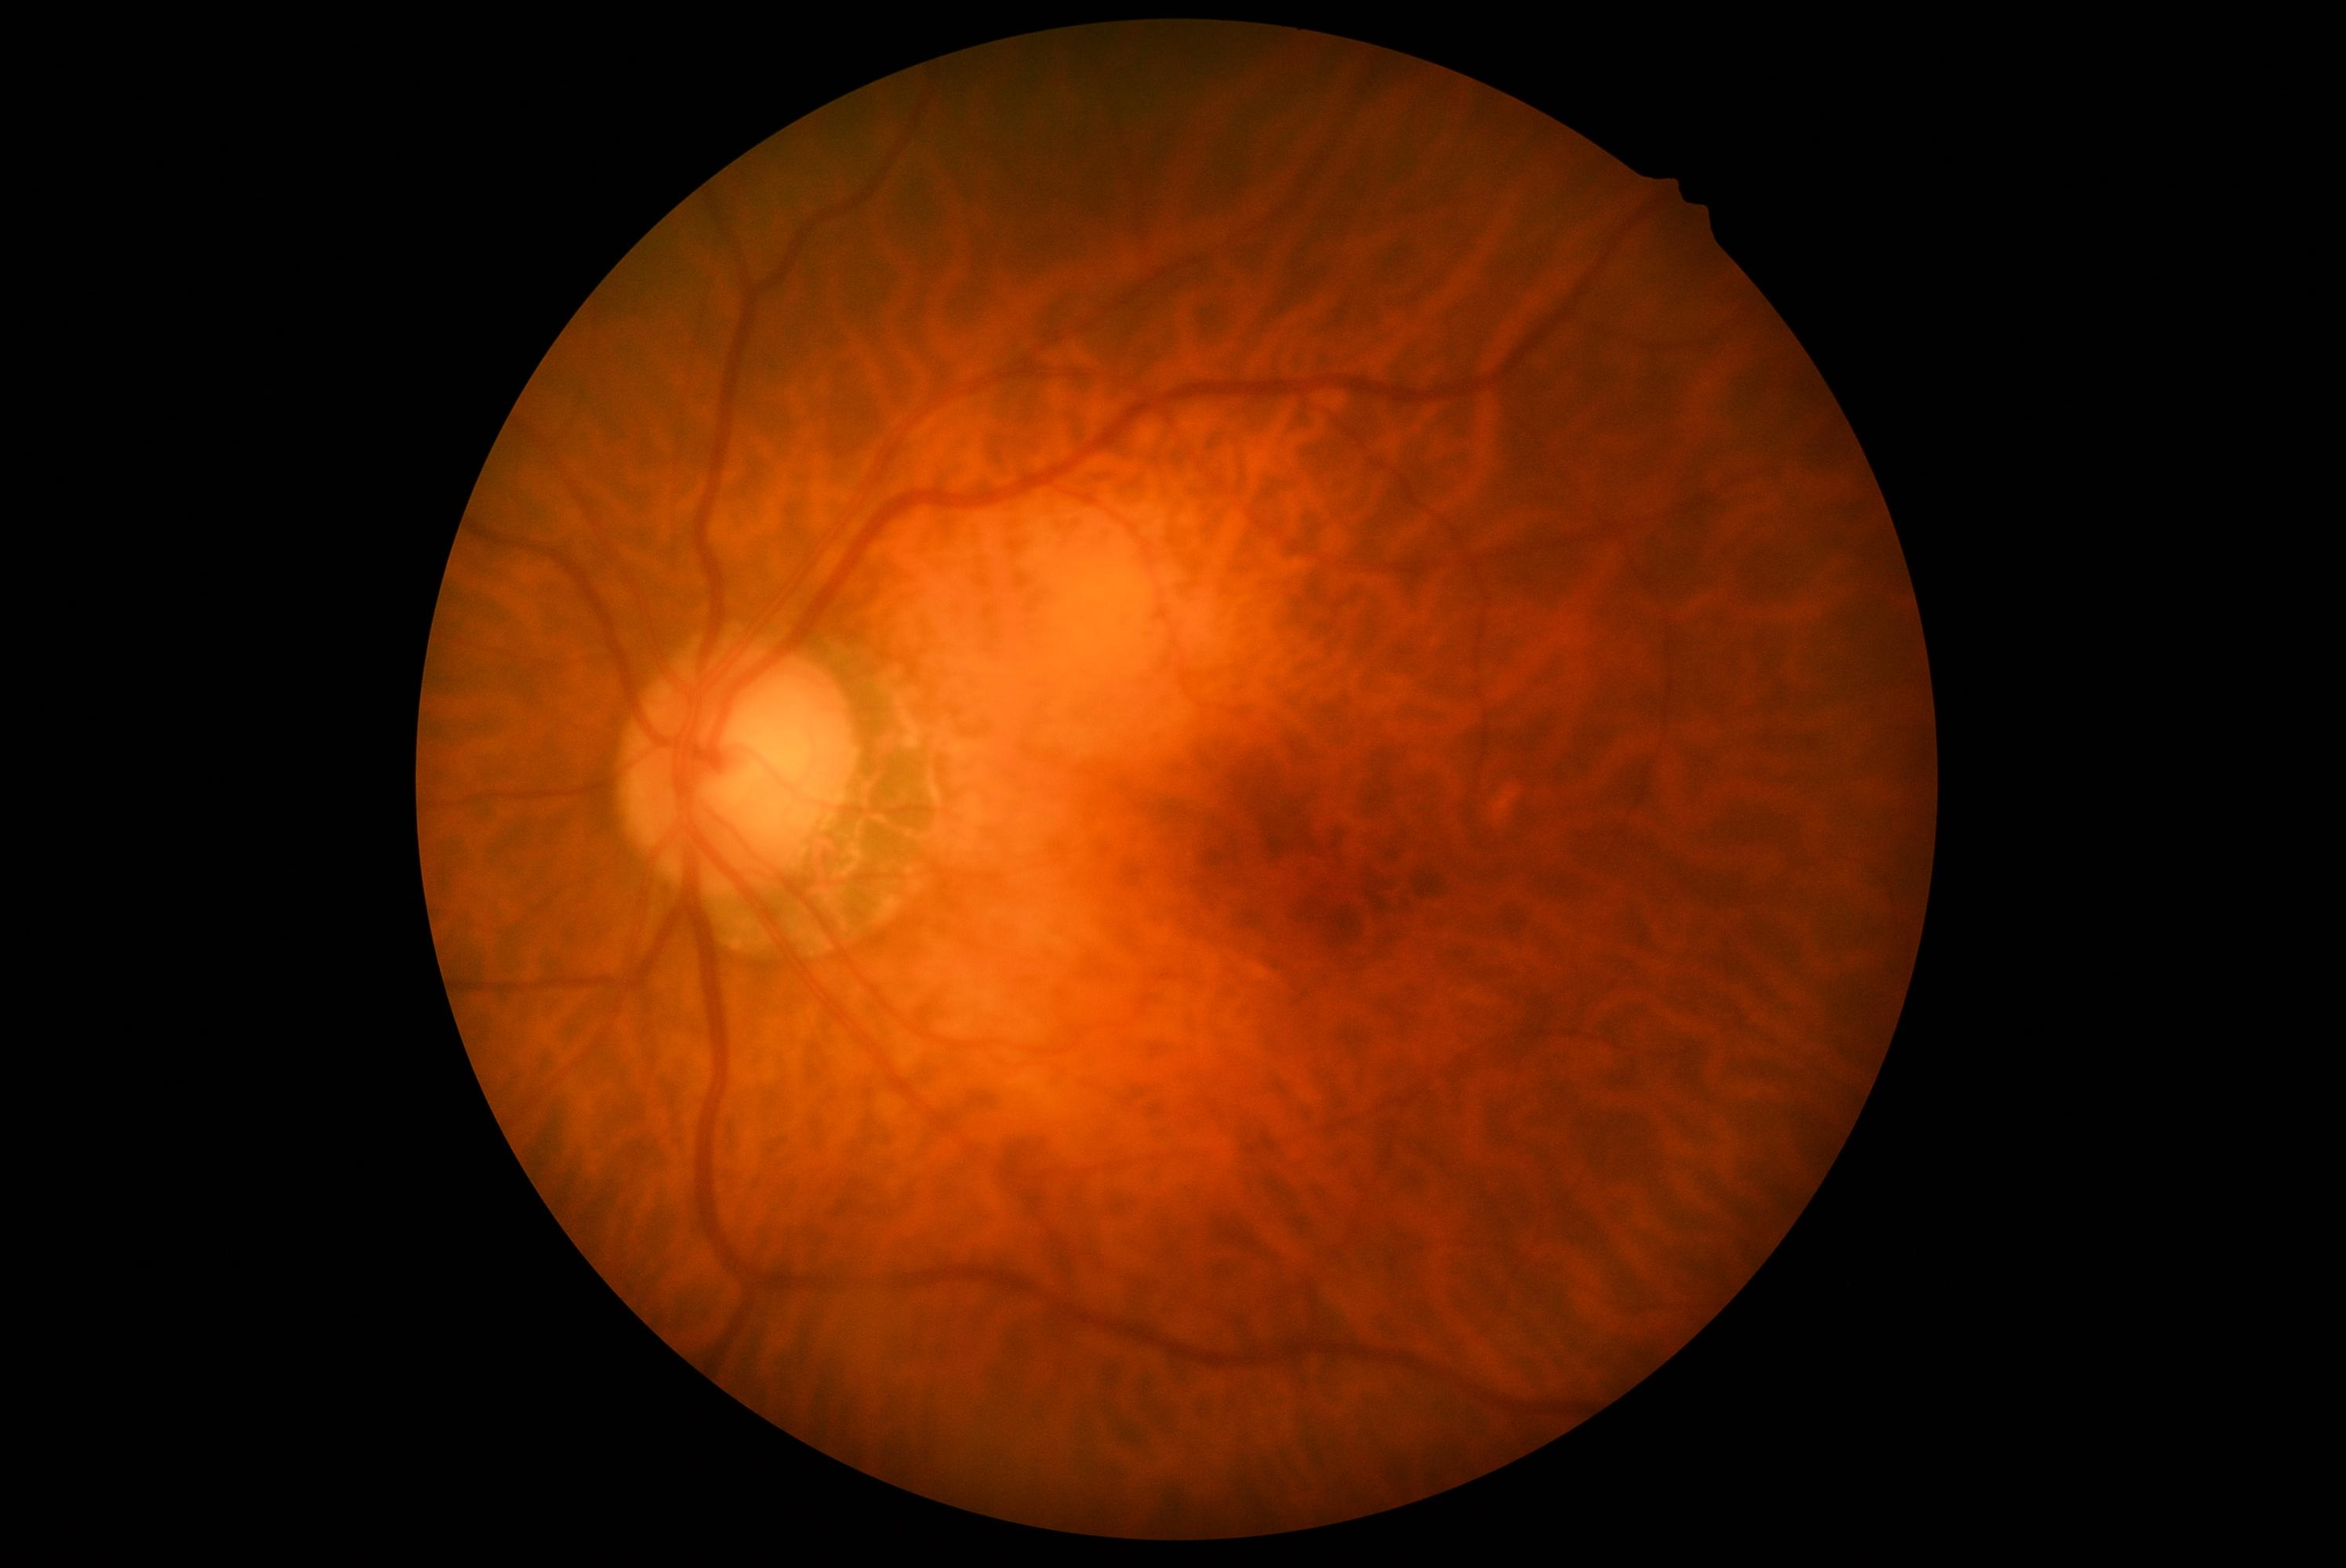Fovea: (1218, 763, 1375, 912)
